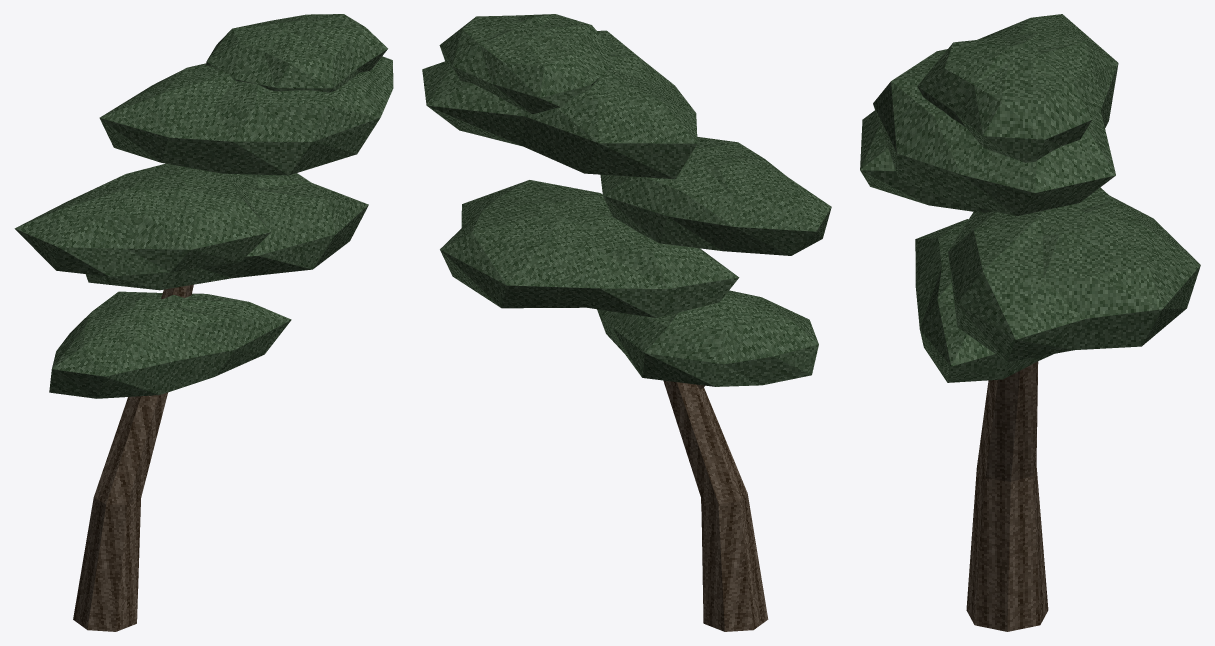
File: coastal-pine.glb
3 views of the same model, side by side, from view 1: azimuth 30°, elevation 25°; view 2: azimuth 150°, elevation 25°; view 3: azimuth 270°, elevation 25° (orthographic). The views are drawn at different scales.
Parts seen in each view (by area): view 1: Pine_WindwardCrown, Pine_LeaningBranches; view 2: Pine_WindwardCrown, Pine_LeaningBranches; view 3: Pine_WindwardCrown, Pine_LeaningBranches.
Boxes of the visible parts, x1,y1,x2,y2 form: Pine_WindwardCrown: (14, 14, 393, 398); Pine_LeaningBranches: (73, 284, 193, 631); Pine_WindwardCrown: (422, 14, 831, 386); Pine_LeaningBranches: (663, 380, 768, 631); Pine_WindwardCrown: (860, 14, 1200, 382); Pine_LeaningBranches: (966, 361, 1048, 631).
Bounding box in the file's own units: 4.01 × 5.41 × 2.43.
Materials: 2 (2 with a texture image).
